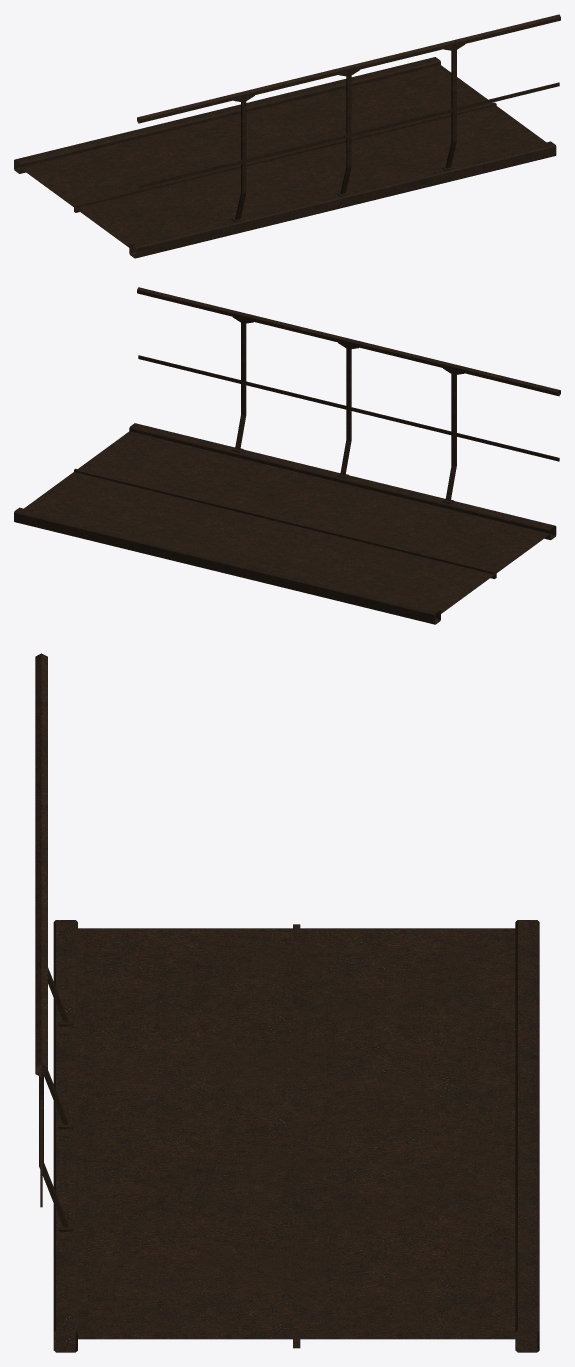
The model's file is catwalk_1.dae.
The picture shows the model from 3 angles, top to bottom: view 1: azimuth 30°, elevation 25°; view 2: azimuth 150°, elevation 25°; view 3: azimuth 270°, elevation 25°; orthographic projection. The views are drawn at different scales.
Parts seen in each view (by area): view 1: catwalk_1, handrail_4; view 2: catwalk_1, handrail_4; view 3: catwalk_1, handrail_4.
Part boxes in pixels (x1=…): catwalk_1: x1=14, y1=57, x2=556, y2=258; handrail_4: x1=137, y1=14, x2=560, y2=222; catwalk_1: x1=14, y1=423, x2=556, y2=624; handrail_4: x1=137, y1=287, x2=560, y2=503; catwalk_1: x1=53, y1=920, x2=539, y2=1352; handrail_4: x1=35, y1=653, x2=73, y2=1231.
Size of the model in its own units: 4 by 2.08 by 1.31.
1 material, 1 textured.
